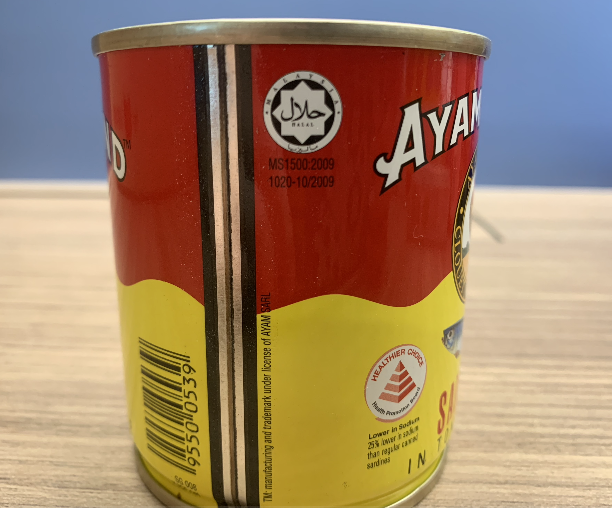halal: (274, 86, 332, 135)
